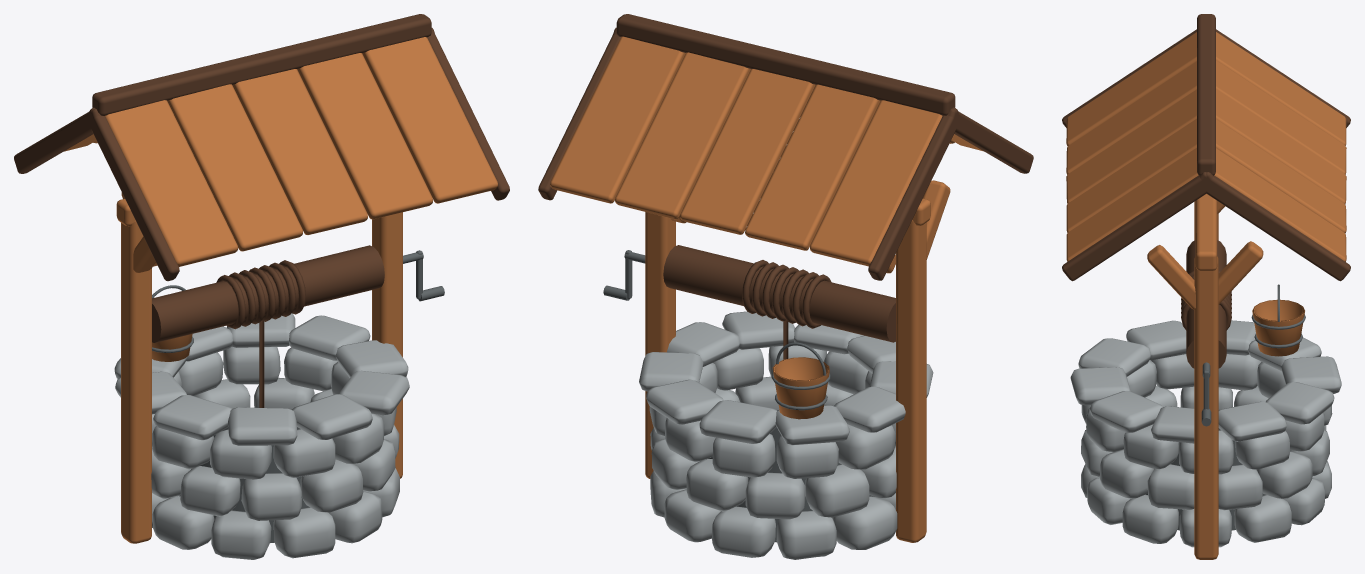
Rendered from GROVE_WELL.glb.
3 renders of one model, left to right at view 1: azimuth 30°, elevation 25°; view 2: azimuth 150°, elevation 25°; view 3: azimuth 270°, elevation 25°, orthographic. The views are drawn at different scales.
Parts seen in each view (by area): view 1: roof_posts, well_stones, roller_rope_trim, bucket, crank; view 2: roof_posts, well_stones, roller_rope_trim, bucket, bucket_bands, crank; view 3: roof_posts, well_stones, roller_rope_trim, bucket, bucket_bands, crank.
Boxes of the visible parts, x1,y1,x2,y2 form: roof_posts: (64,37,497,543); well_stones: (114,313,409,559); roller_rope_trim: (14,14,509,407); bucket: (152,334,192,361); crank: (403,250,444,301); roof_posts: (550,36,983,542); well_stones: (639,311,933,559); roller_rope_trim: (538,14,1033,359); bucket: (772,357,829,419); bucket_bands: (771,342,830,410); crank: (603,250,645,300); roof_posts: (1066,32,1346,559); well_stones: (1070,320,1341,547); roller_rope_trim: (1062,14,1350,368); bucket: (1252,299,1304,356); bucket_bands: (1251,284,1305,348); crank: (1201,362,1211,426).
Size of the model in its own units: 7.69 by 9.5 by 5.99.
